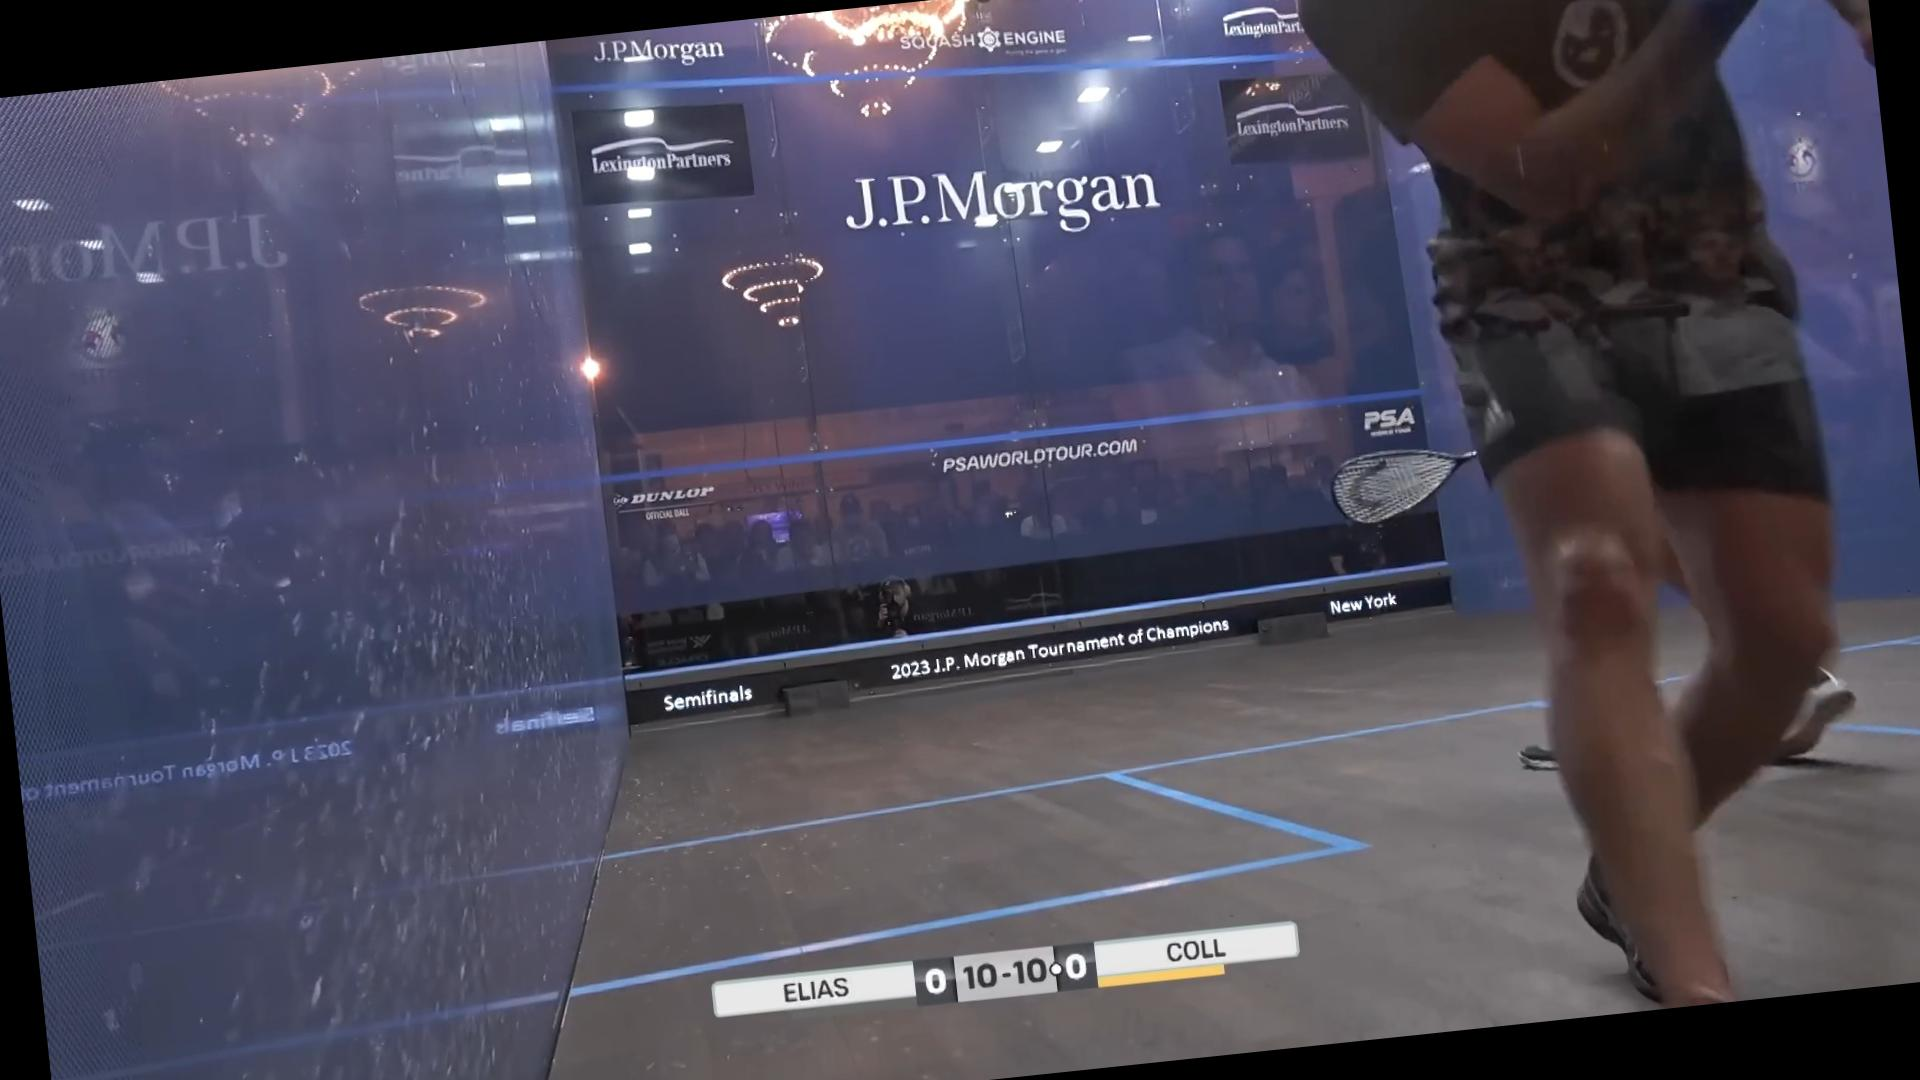Racket: (1321, 435, 1486, 535)
